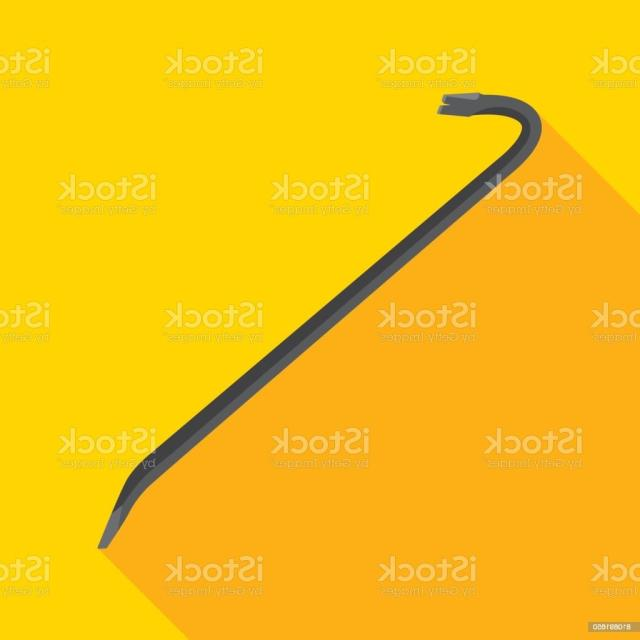Linggis: (91, 90, 543, 546)
